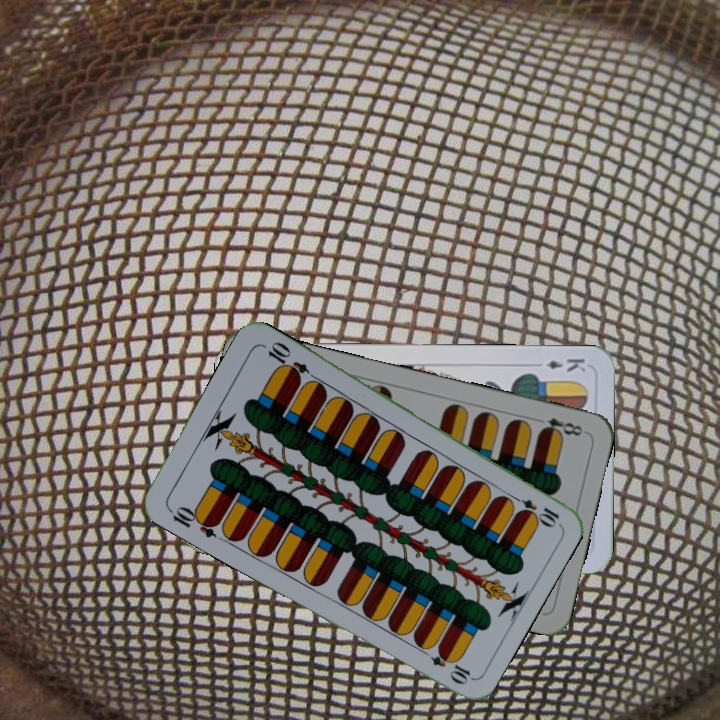E10: (164, 502, 222, 541), (505, 490, 562, 528)
E8: (531, 413, 588, 440)
EK: (542, 354, 588, 374)
